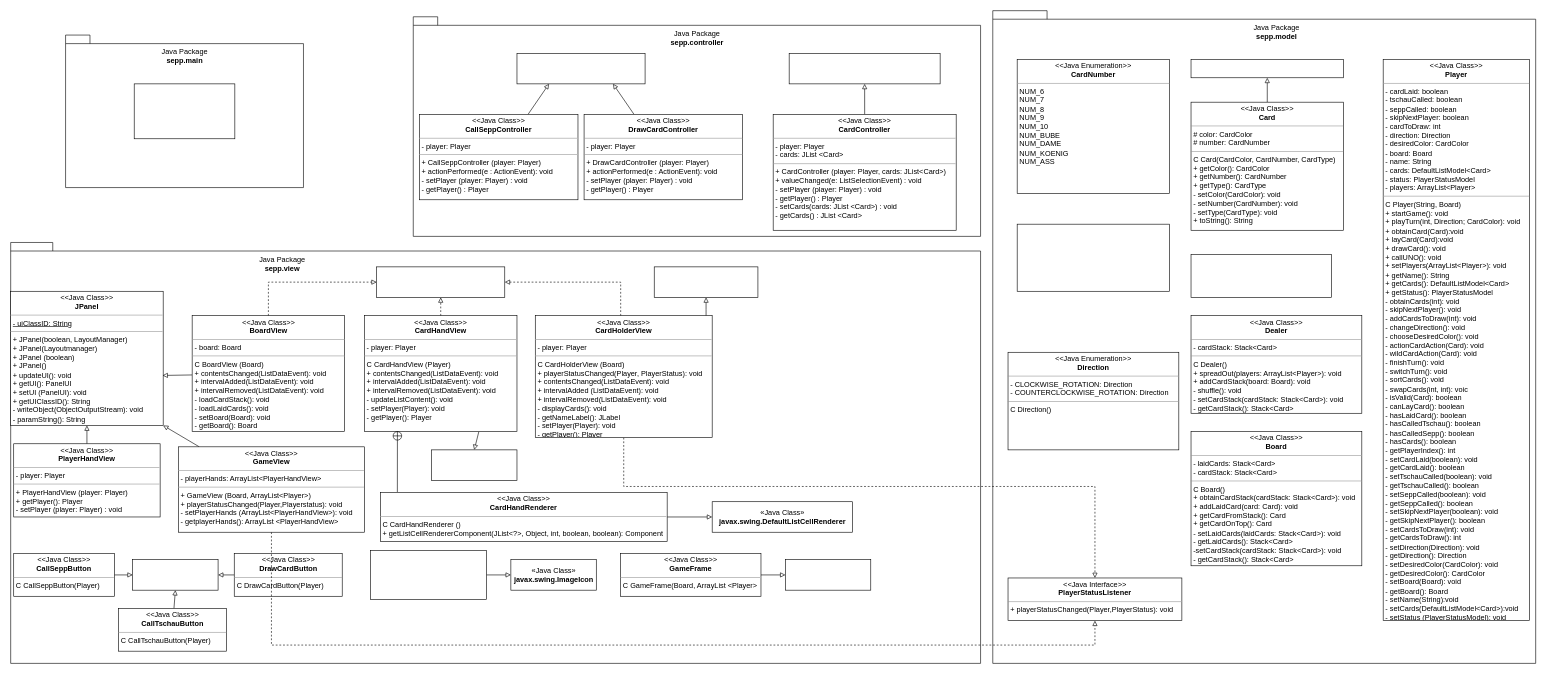
Image size: 1546x674. Some labels were removed from this diagram. Here are the shapes that lost their labels. From the top down, the box of each, then its label:
(516, 53, 645, 84): «Java Interface» javax.awt.event.ActionListener
(789, 53, 940, 84): «Java interface» javax.swing.event.ListSelectionListener
(1190, 59, 1344, 78): javax.swing.ImageIcon
(134, 83, 235, 139): << Java Class >> Main C Main() + main(String []) void
(1017, 224, 1170, 291): << Java Enumeration >> CardColor SCHAUFEL_CARD HERZ_CARD KREUZ_CARD ECKE_CARD
(1190, 254, 1331, 297): << Java Class >> CardDeck + generateCardDeck(): Stack<Card>
(376, 266, 505, 297): «Java Interface» javax.swing.event.ListDataListener
(654, 266, 758, 297): «Java Class» javax.swing.JLayeredPane
(431, 449, 517, 480): «Java Class» javax.swing.JList<E>
(132, 559, 218, 590): «Java Class» javax.swing.JButton
(370, 550, 486, 599): << Java Class >> CardView C CardView (Card) + getScaledInstance(): ImageIcon
(785, 559, 871, 590): «Java Class» javax.swing.JFrame
